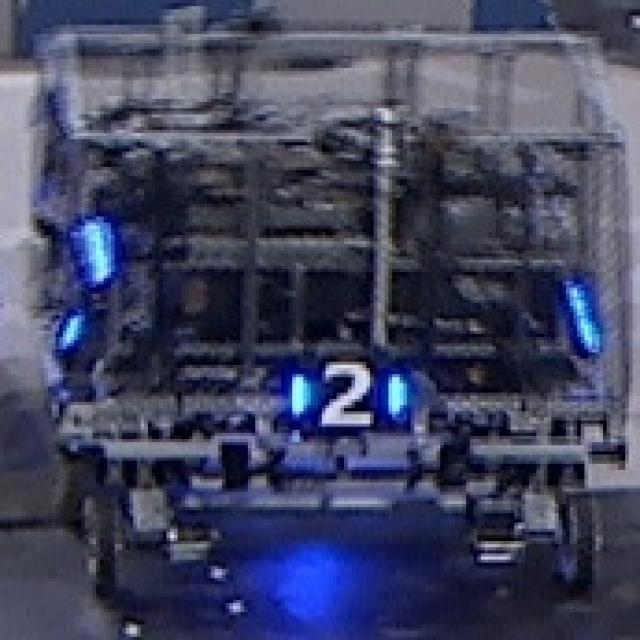B2: (284, 356, 410, 426)
